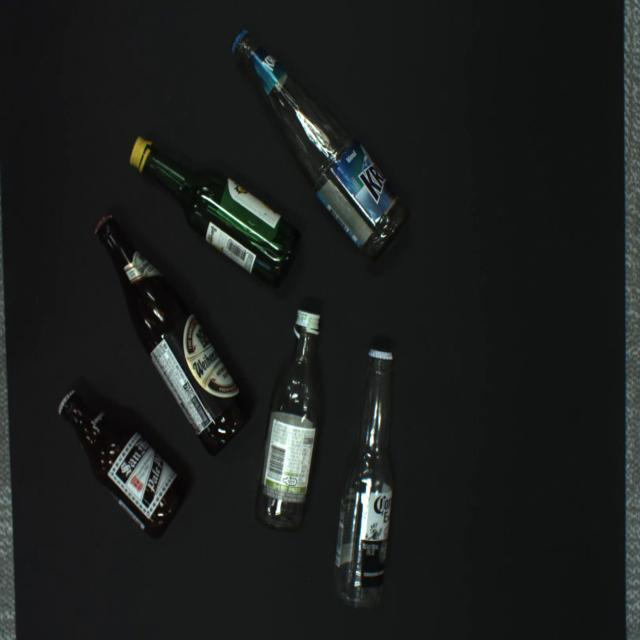beer-bottle: (232, 28, 409, 259), (95, 216, 252, 455), (58, 390, 186, 541), (334, 348, 393, 611)
soju-bottle: (130, 134, 300, 287), (254, 310, 322, 531)
